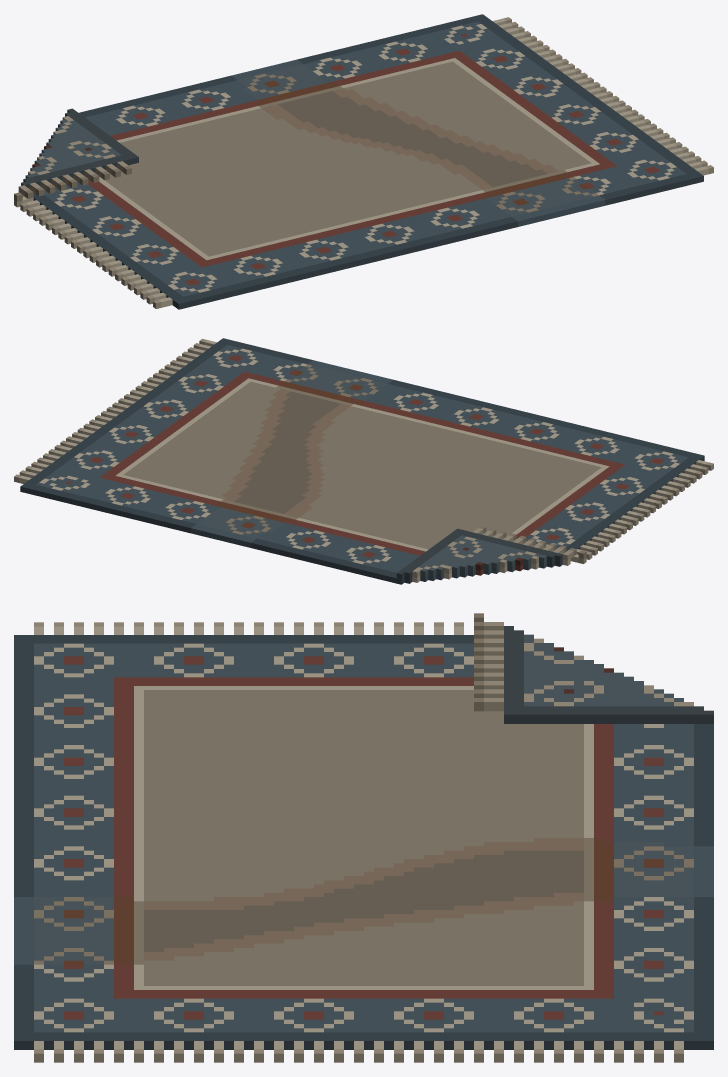
The model's file is Claude_rug.glb.
The picture shows the model from 3 angles, top to bottom: view 1: azimuth 30°, elevation 25°; view 2: azimuth 150°, elevation 25°; view 3: azimuth 270°, elevation 25°; orthographic projection. The views are drawn at different scales.
Parts seen in each view (by area): view 1: Claude_rug; view 2: Claude_rug; view 3: Claude_rug.
Part boxes in pixels (x1=…): Claude_rug: x1=14, y1=14, x2=713, y2=309; Claude_rug: x1=14, y1=338, x2=713, y2=584; Claude_rug: x1=14, y1=613, x2=713, y2=1062.
Size of the model in its own units: 2.55 by 0.05 by 1.75.
